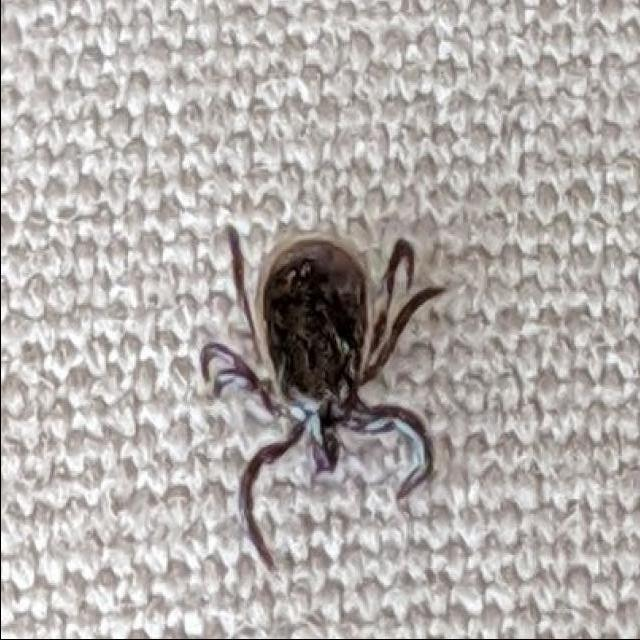Ixodes Ricinus-M: (199, 228, 443, 575)
